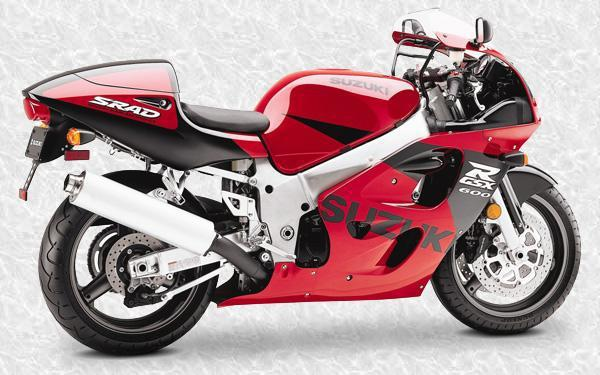motorcycle: (14, 19, 586, 365)
